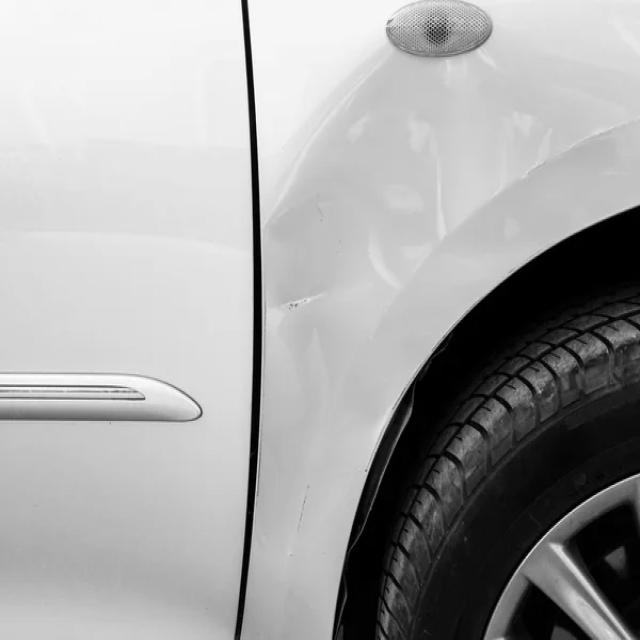dent: (247, 36, 640, 555)
